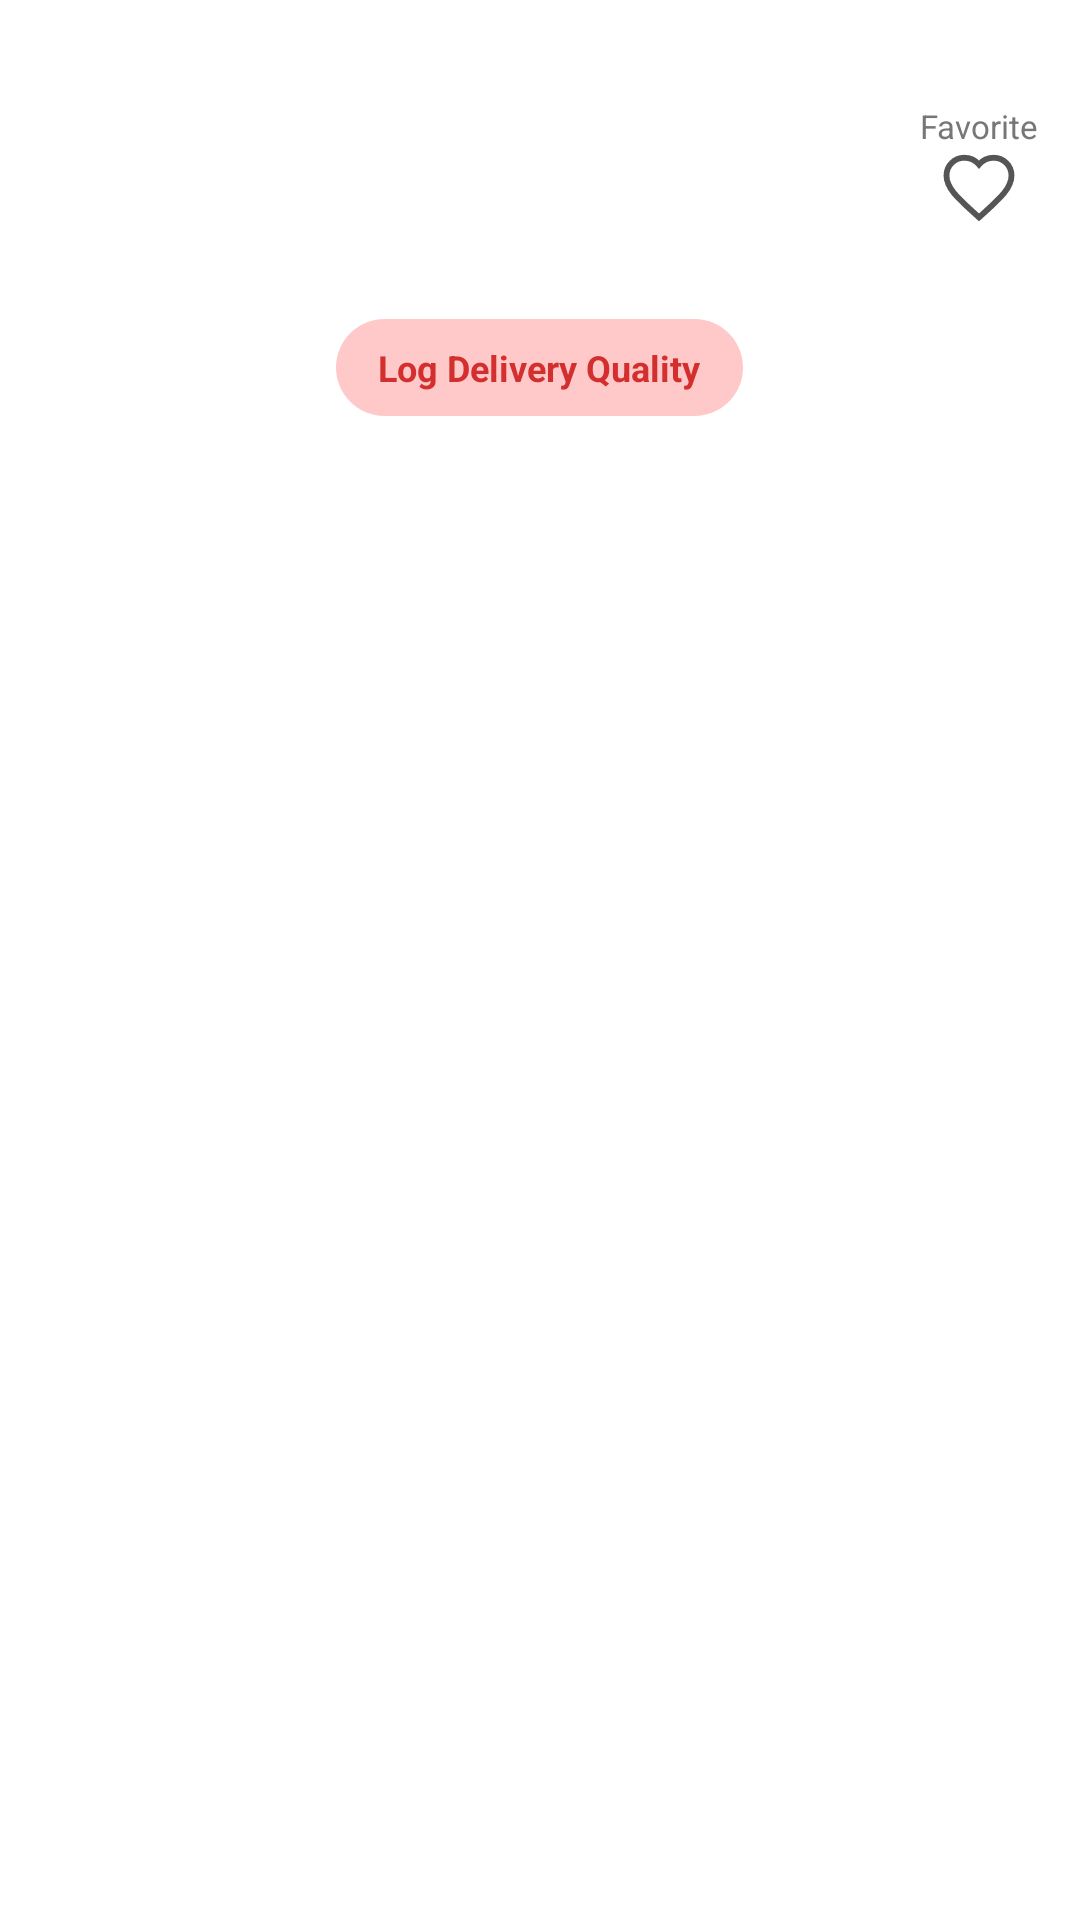

Named icons in this screenshot (1080w x 1920h) and their centers, (x,y):
heart toggle: (979,187)
